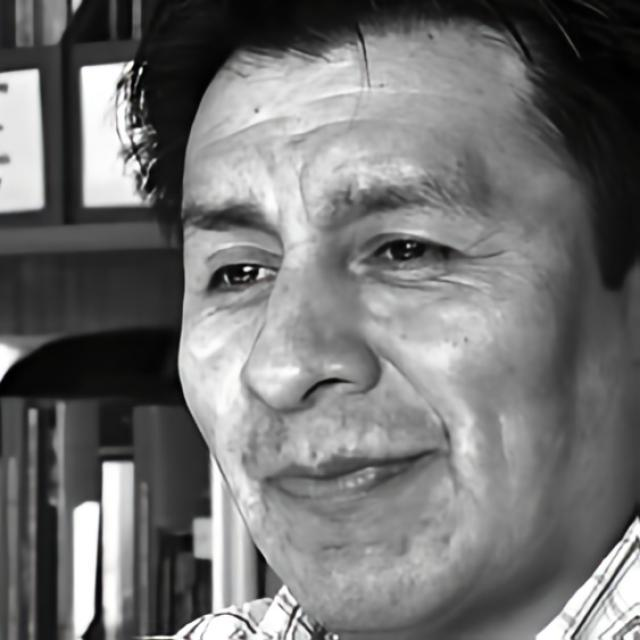content: (174, 20, 600, 632)
